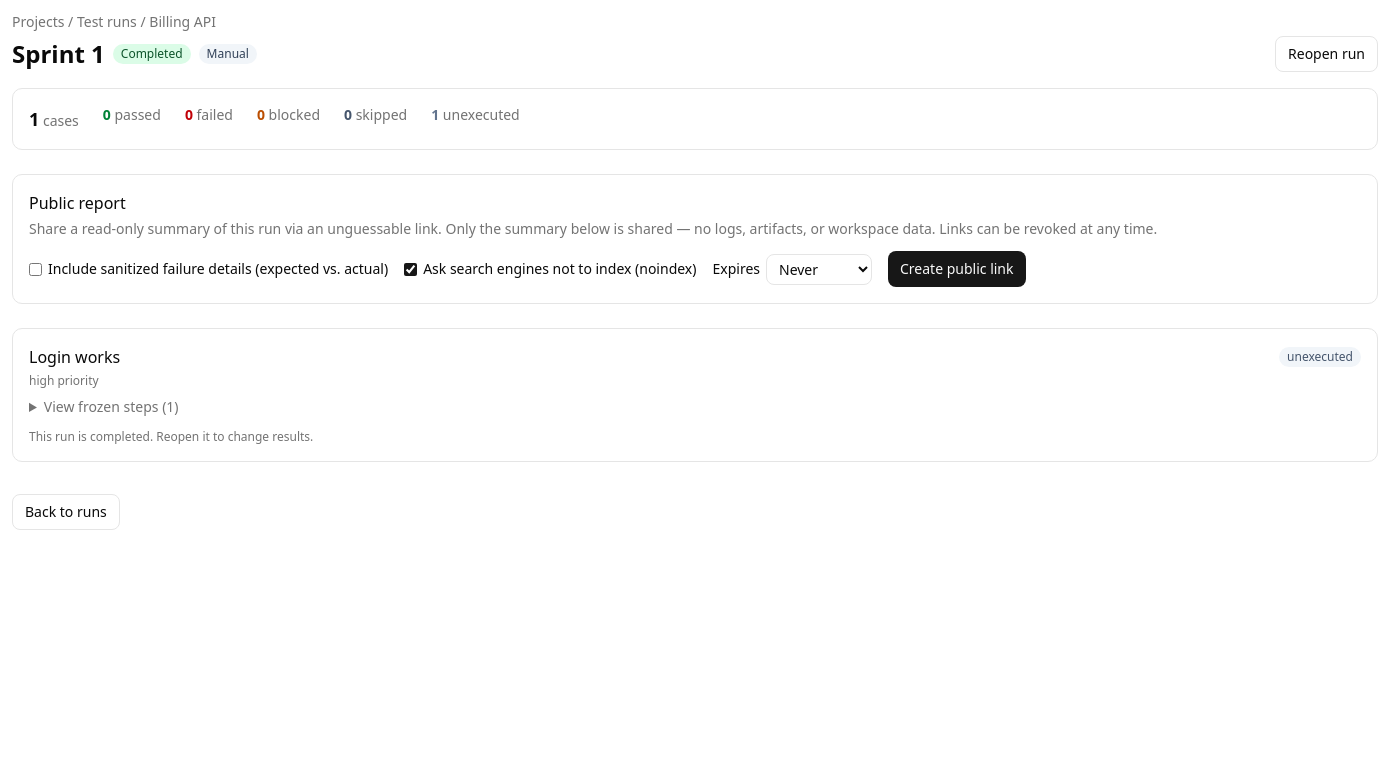
it: RunDetailManager › reopens a completed run
The image size is (1390, 780).
Step 1. Click the button "Reopen run" → click(1326, 54), box top-left (1275, 36), bottom-right (1378, 72)
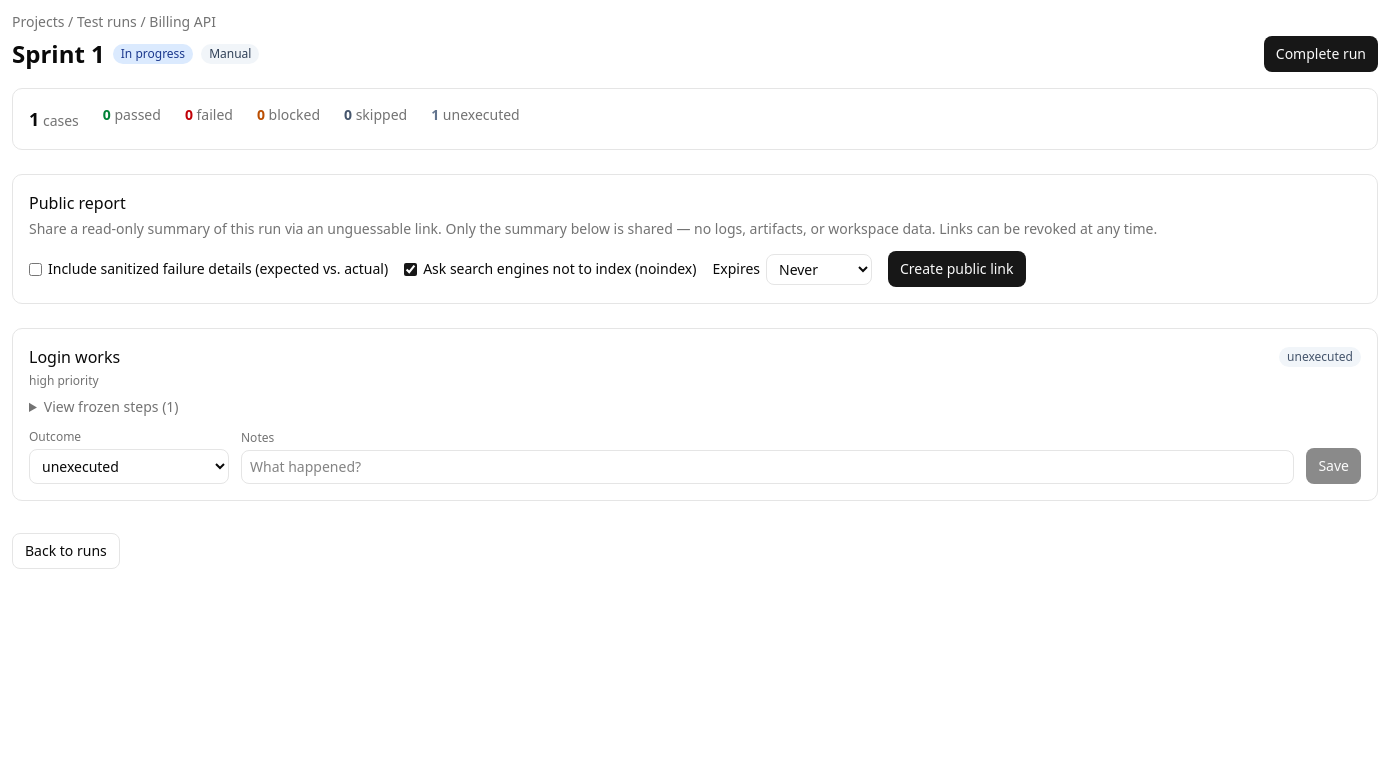
Check: the text "In progress" is shown, box top-left (113, 44), bottom-right (193, 64)
